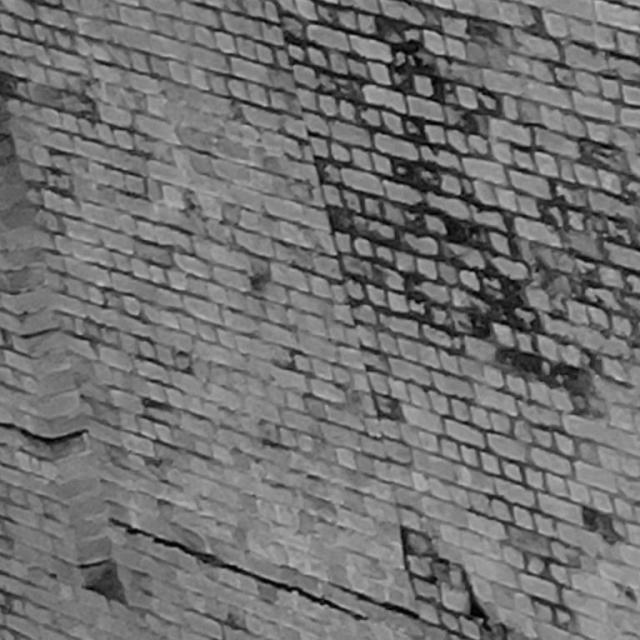crack: (107, 516, 371, 622), (399, 524, 508, 640), (329, 582, 420, 619), (1, 422, 88, 444)
